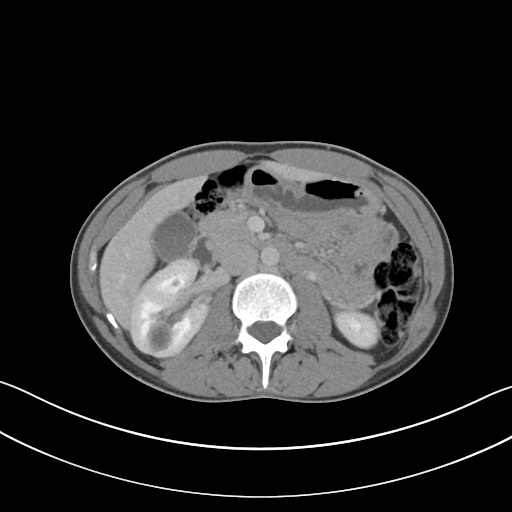Lesion: (167, 273, 181, 291)
